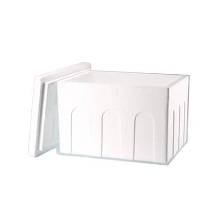foam_box: (21, 55, 196, 171)
